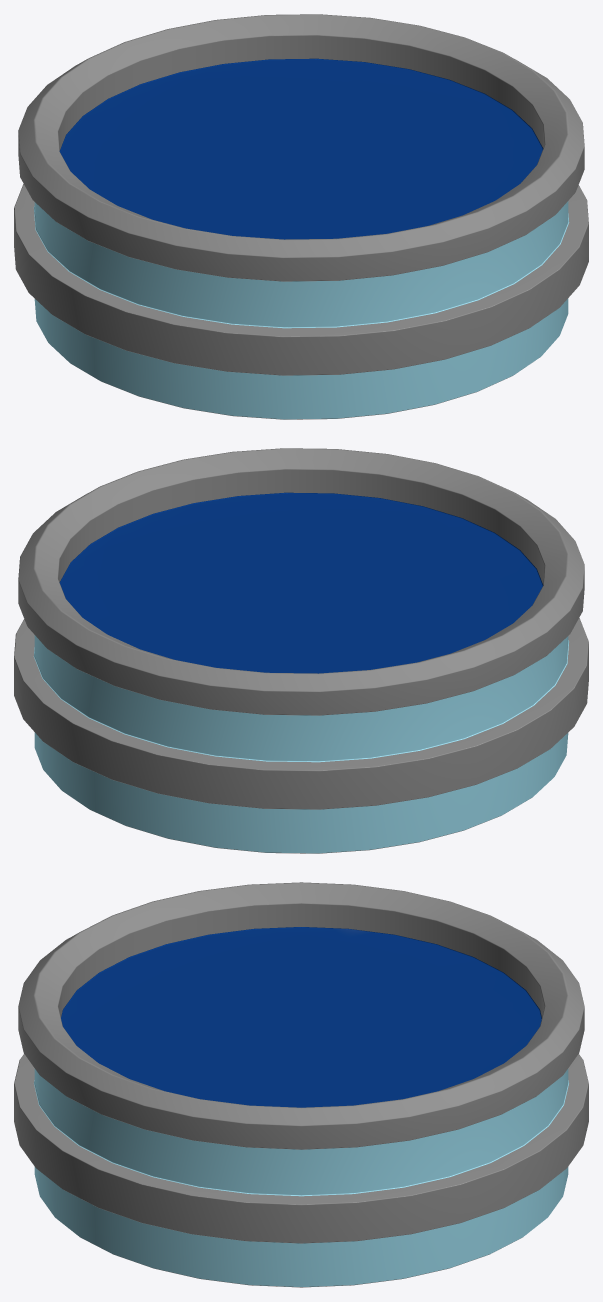
The model's file is SM_Flower_pot_02.fbx.
3 views of the same model, one above another, from view 1: azimuth 30°, elevation 25°; view 2: azimuth 150°, elevation 25°; view 3: azimuth 270°, elevation 25° (orthographic).
Visible parts, largest first — view 1: SM_Flower_pot_02; view 2: SM_Flower_pot_02; view 3: SM_Flower_pot_02.
Part boxes in pixels (x1,y1,x2,y2): SM_Flower_pot_02: (14, 14, 588, 419); SM_Flower_pot_02: (14, 448, 588, 853); SM_Flower_pot_02: (14, 882, 588, 1287).
Bounding box in the file's own units: 108 × 108 × 37.14.
1 material, 1 textured.
